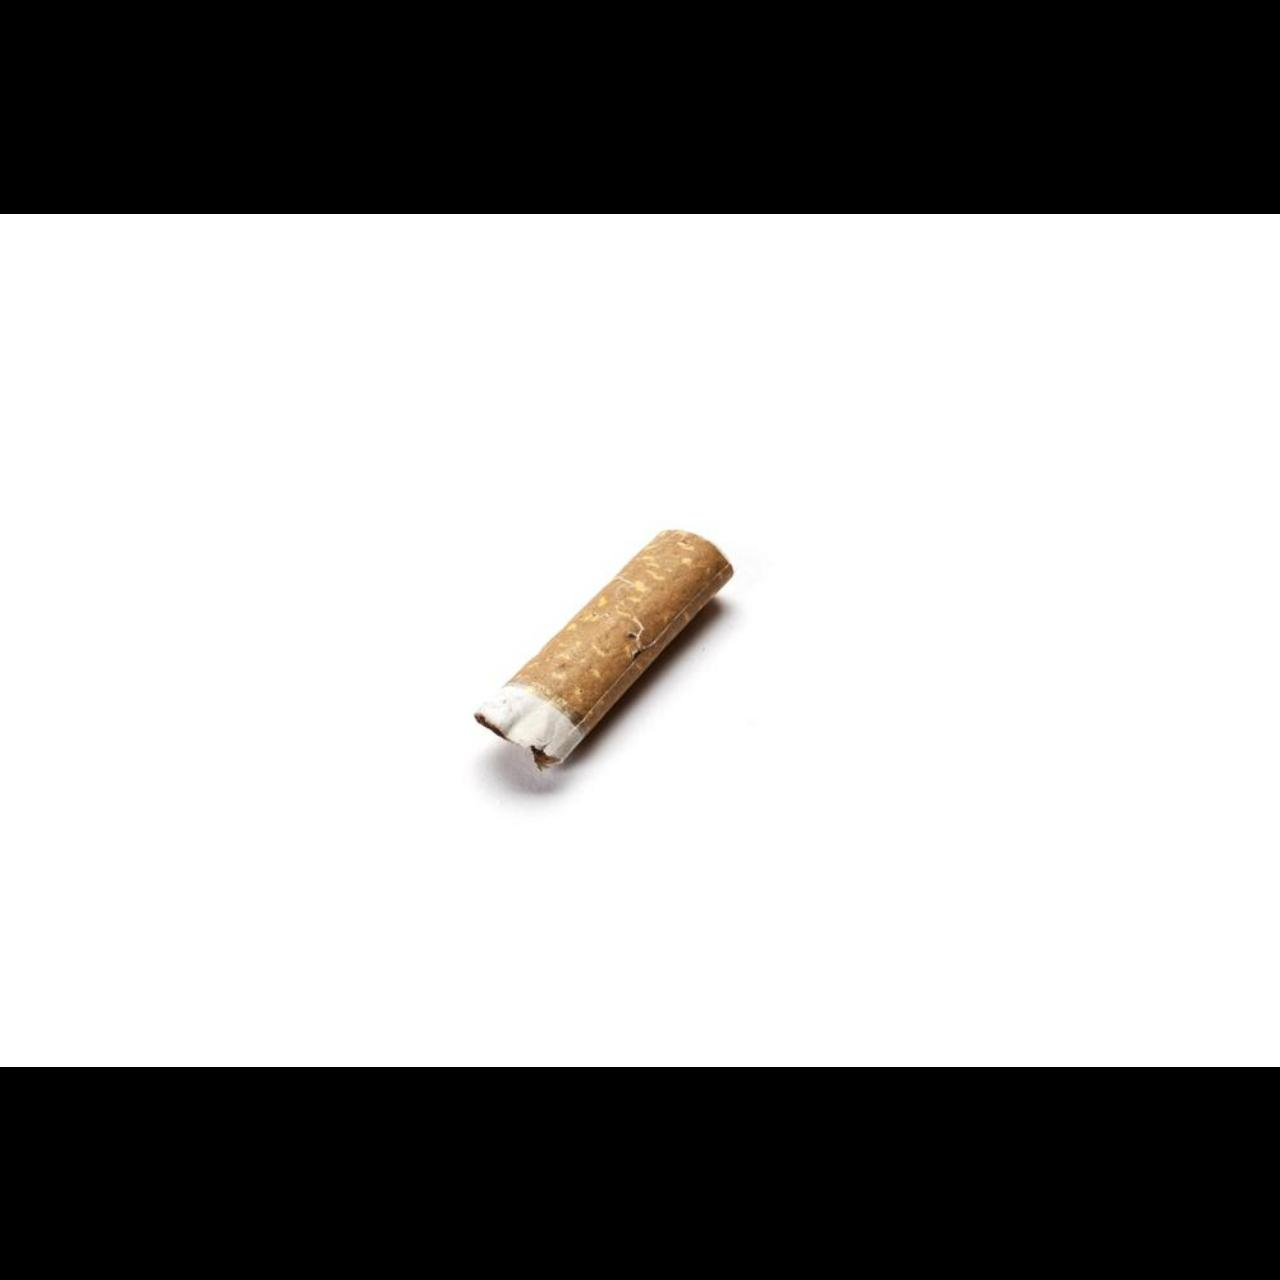cigarettes_butts: (474, 529, 735, 771)
